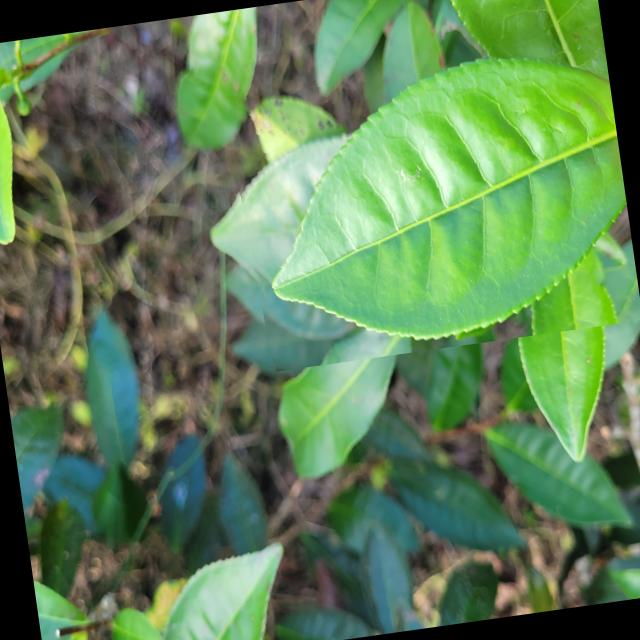Category D(7+ days, Not for Tea): (220, 36, 640, 373)
